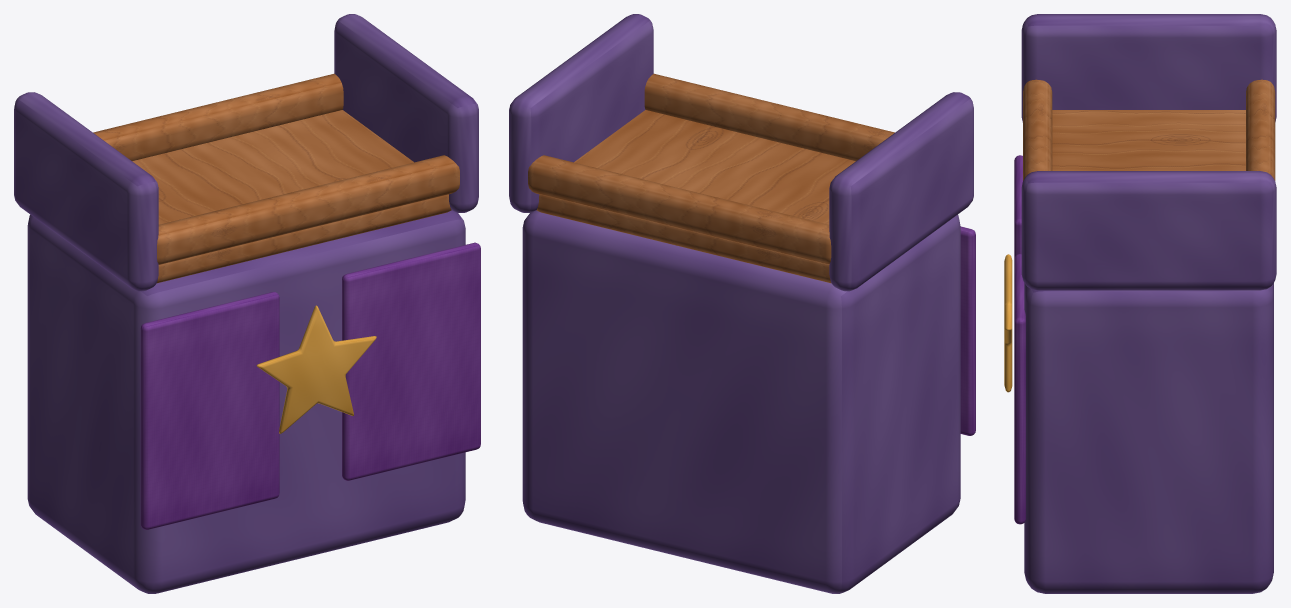
The model's file is V5_ToyChest.fbx.
The picture shows the model from 3 angles, left to right: view 1: azimuth 30°, elevation 25°; view 2: azimuth 150°, elevation 25°; view 3: azimuth 270°, elevation 25°; orthographic projection.
Visible parts, largest first — view 1: V5_ToyChest; view 2: V5_ToyChest; view 3: V5_ToyChest.
Part boxes in pixels (bbox=[...]): V5_ToyChest: bbox=[14, 14, 480, 593]; V5_ToyChest: bbox=[509, 14, 975, 593]; V5_ToyChest: bbox=[1004, 14, 1276, 593].
Size of the model in its own units: 0.765 by 0.89 by 0.5125.
1 material, 1 textured.
